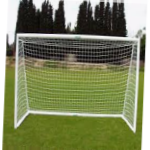goals: (13, 32, 141, 134)
